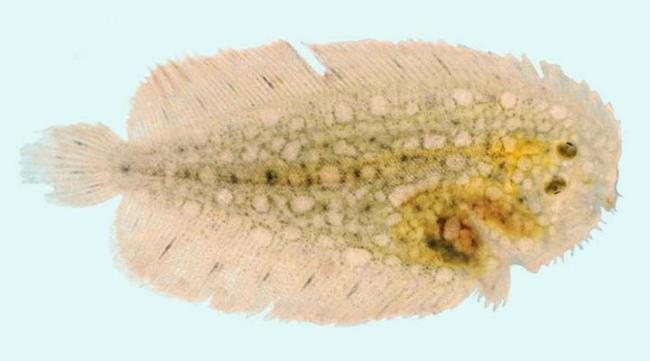fish: (17, 39, 623, 327)
